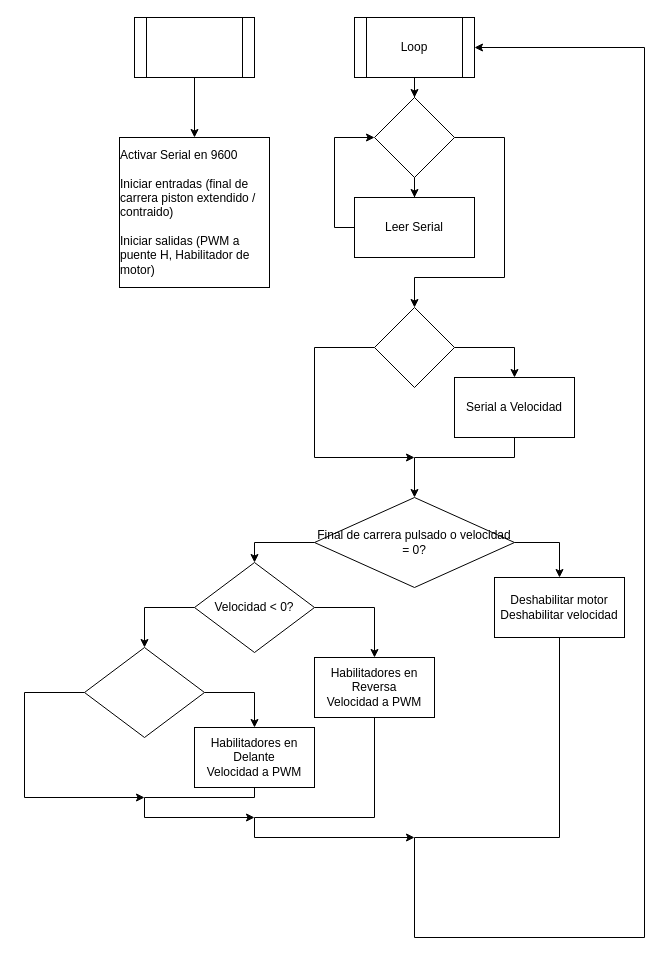
Image size: 670x963. Some labels were removed from this diagram. Here are the shapes that lost their labels. From the top down, the centre of each, then its label:
At point 194,47: "Setup".
At point 414,137: "Mientras serial disp".
At point 414,347: "Serial > 0".
At point 144,692: "Velocidad > 0 ?".
